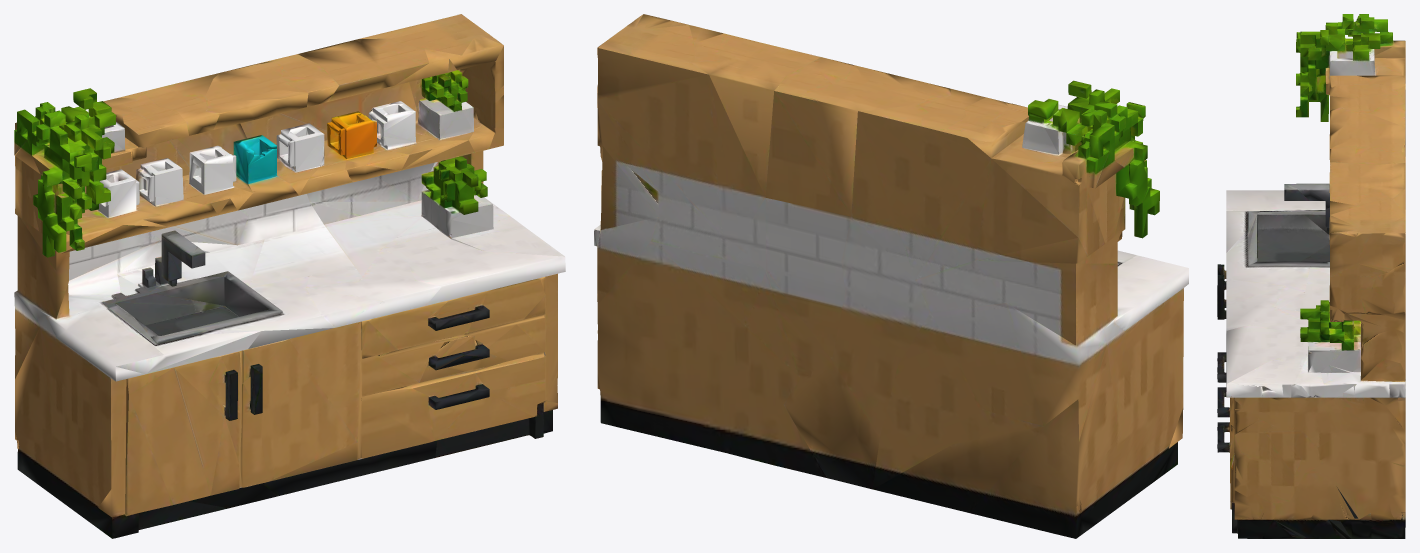
The model's file is coffee_counter_sink.glb.
The picture shows the model from 3 angles, left to right: view 1: azimuth 30°, elevation 25°; view 2: azimuth 150°, elevation 25°; view 3: azimuth 270°, elevation 25°; orthographic projection. The views are drawn at different scales.
Size of the model in its own units: 2 by 1.55 by 0.7922.
Materials: 1 (1 with a texture image).
